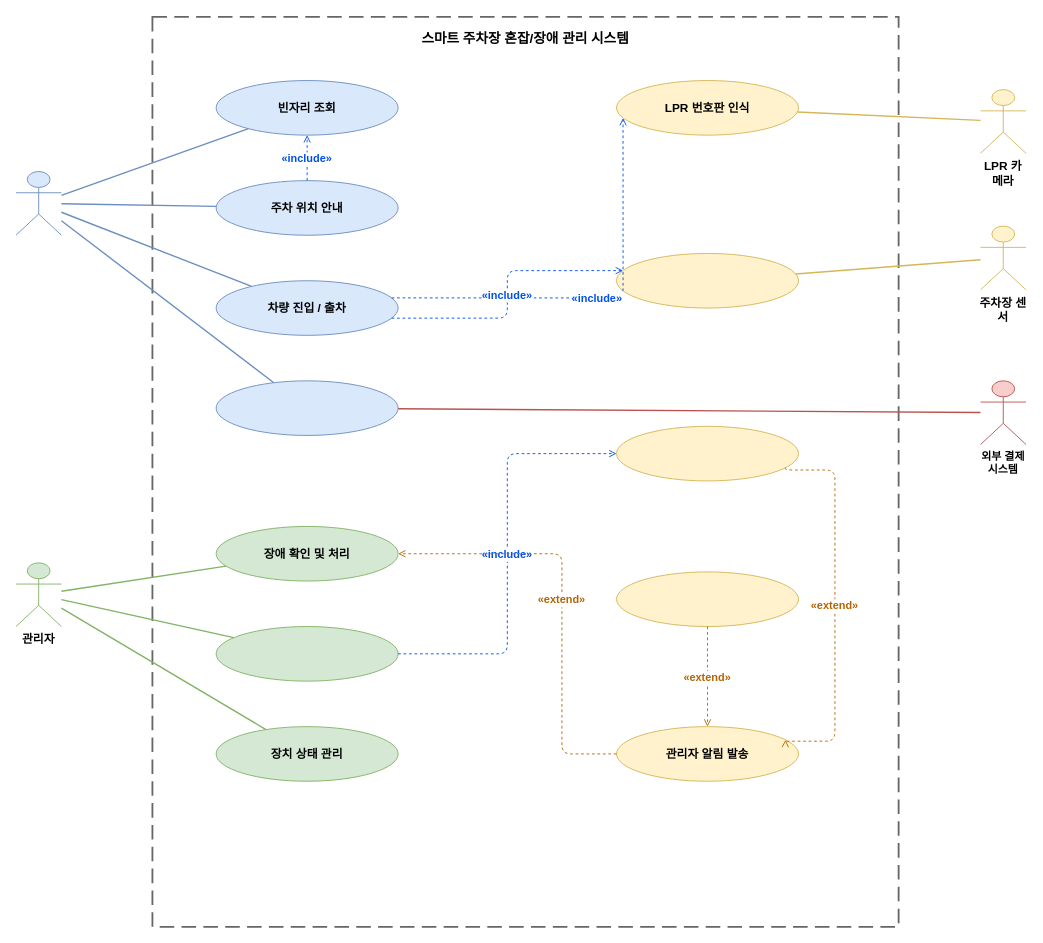
Image size: 1043x943. Some labels were removed from this diagram. The centre of each missing label's shape, as x and y in pixels:
"결제 처리" goes at point 306,407.
"센서 데이터 수집" goes at point 707,280.
"운전자" goes at point 38,203.
"이상 탐지 (AI Ops)" goes at point 707,599.
"혼잡도 예측 (AI)" goes at point 707,453.
"혼잡도 현황 조회" goes at point 306,653.
